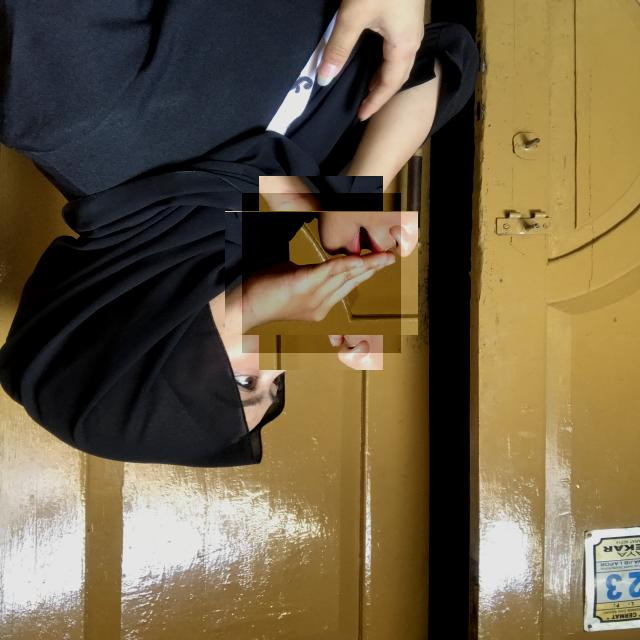ngantuk: (242, 193, 401, 353)
